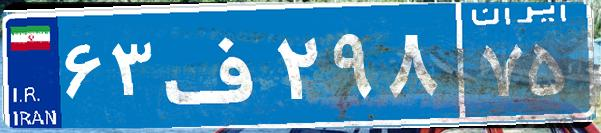2: (273, 28, 330, 110)
3: (110, 28, 158, 105)
5: (525, 38, 570, 115)
6: (57, 26, 110, 107)
7: (475, 38, 525, 113)
8: (385, 28, 445, 110)
9: (330, 28, 385, 110)
ف: (158, 15, 273, 115)
